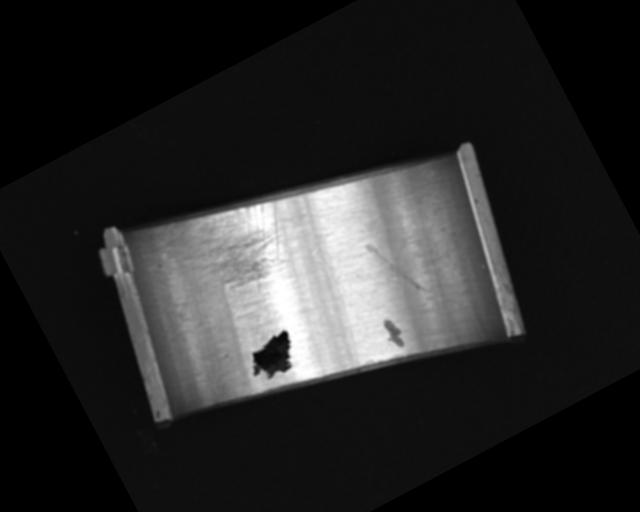blot: (240, 328, 305, 388)
bruise: (378, 314, 410, 352)
nick: (299, 247, 376, 365), (363, 227, 428, 309)
scratch: (155, 173, 311, 323)
